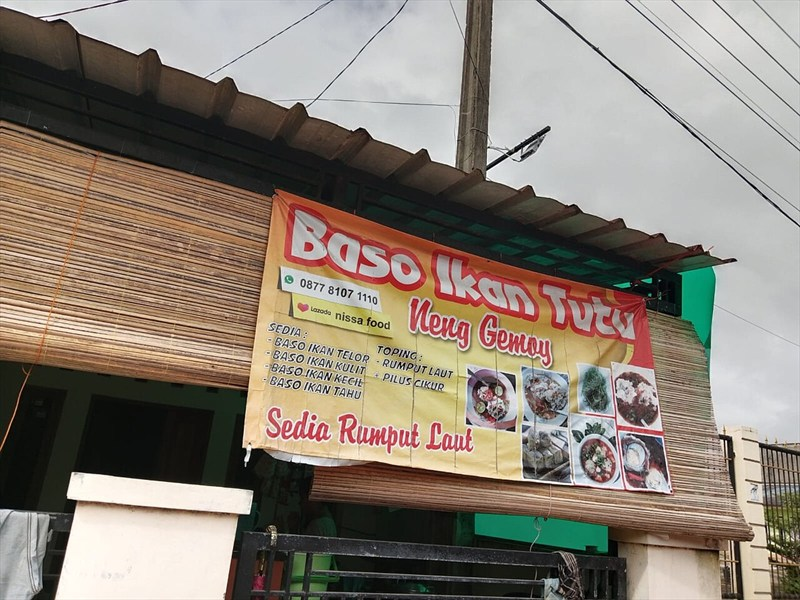Bakso: (47, 109, 708, 586)
